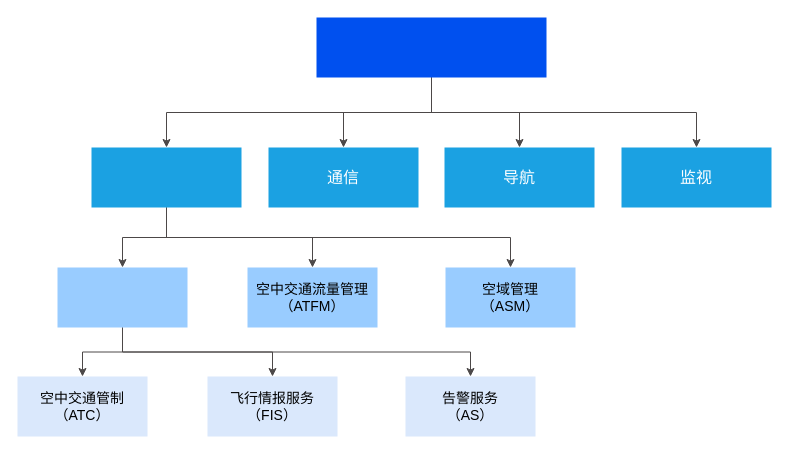
The diagram is 788 pixels wide and 453 high, and some of its shapes have lost their labels. Here are the shapes that lost their labels. From the top down, the box of each, then its label:
(316, 17, 546, 77): 空管系统
(91, 147, 241, 207): 空中交通管理系统 （ATM）
(57, 267, 187, 327): 空中交通服务 （ATS）
